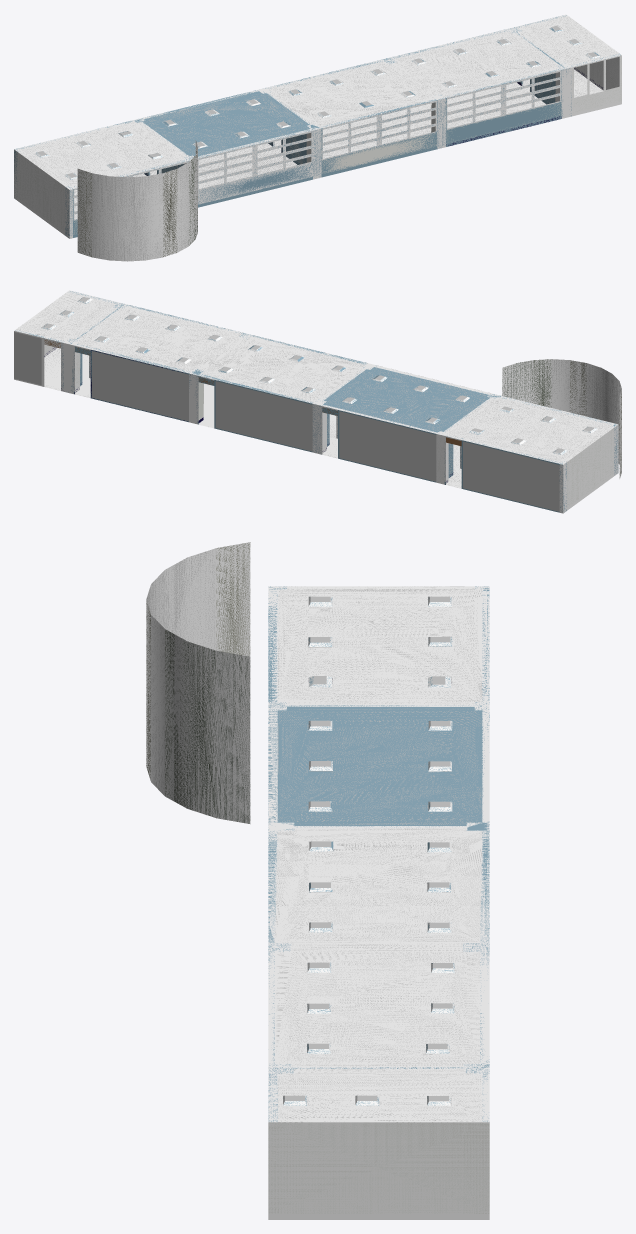
The model's file is info410.obj.
3 renders of one model, top to bottom at view 1: azimuth 30°, elevation 25°; view 2: azimuth 150°, elevation 25°; view 3: azimuth 270°, elevation 25°, orthographic. The views are drawn at different scales.
Parts seen in each view (by area): view 1: Mesh28 Model, Mesh29 Model; view 2: Mesh28 Model, Mesh29 Model; view 3: Mesh28 Model, Mesh29 Model.
Boxes of the visible parts, left/top/right/bottom form: Mesh28 Model: left=14, top=14, right=621, bottom=238; Mesh29 Model: left=77, top=140, right=197, bottom=261; Mesh28 Model: left=14, top=290, right=618, bottom=513; Mesh29 Model: left=502, top=359, right=621, bottom=478; Mesh28 Model: left=268, top=586, right=489, bottom=1219; Mesh29 Model: left=146, top=542, right=250, bottom=823.
Size of the model in its own units: 31.81 by 4.64 by 8.61.
